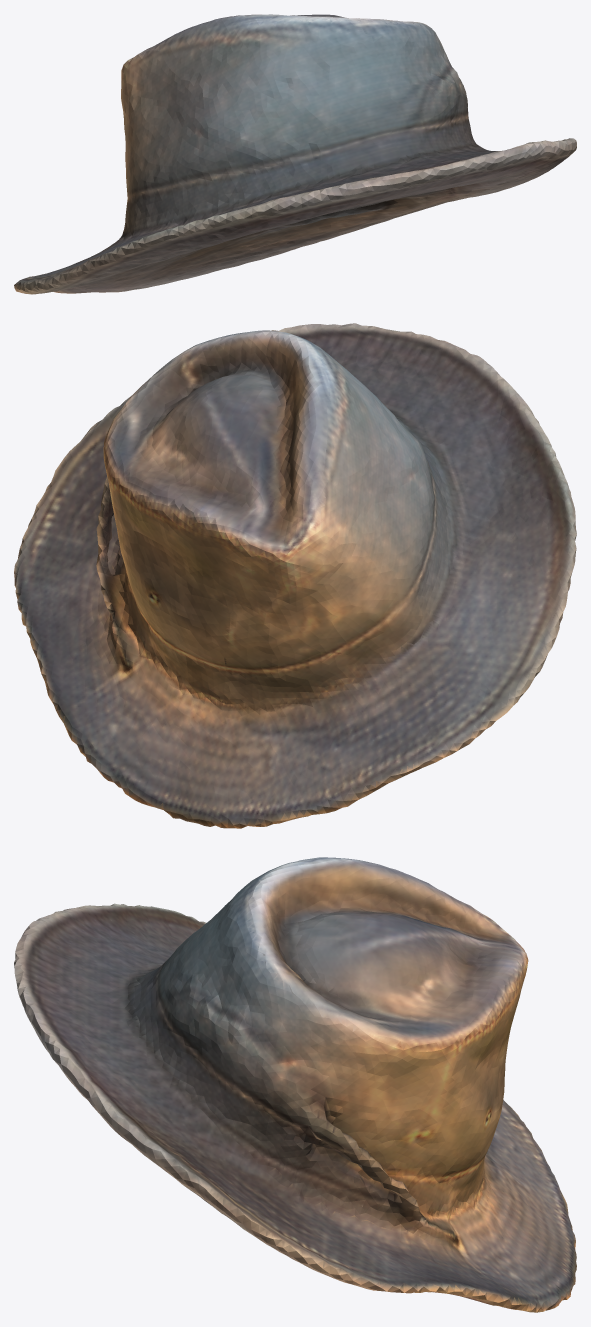
3 views of the same model, one above another, from view 1: azimuth 30°, elevation 25°; view 2: azimuth 150°, elevation 25°; view 3: azimuth 270°, elevation 25° (orthographic). The views are drawn at different scales.
Parts seen in each view (by area): view 1: world; view 2: world; view 3: world.
Part boxes in pixels (x1,y1,x2,y2): world: (14, 14, 576, 294); world: (14, 323, 576, 828); world: (14, 857, 576, 1312).
Size of the model in its own units: 0.9659 by 0.6623 by 0.8164.
Materials: 1 (1 with a texture image).
